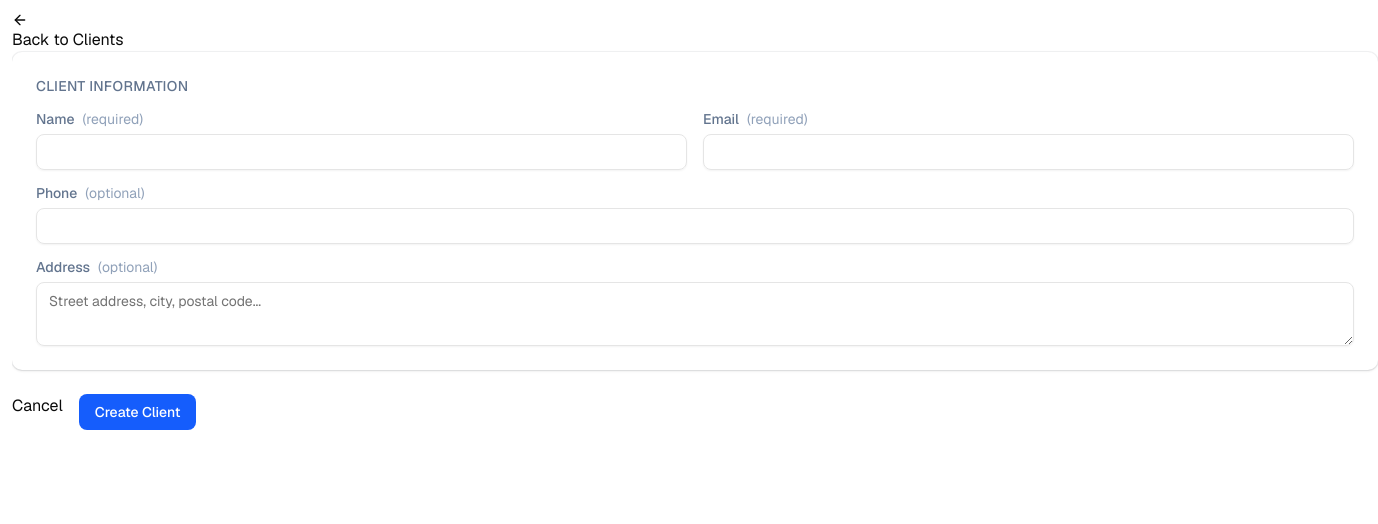
Test case: ClientForm › validation › shows error when email is empty
Type "Test Client" into the field labelled "Name (required)" at [362, 152], box [36,134,687,170]
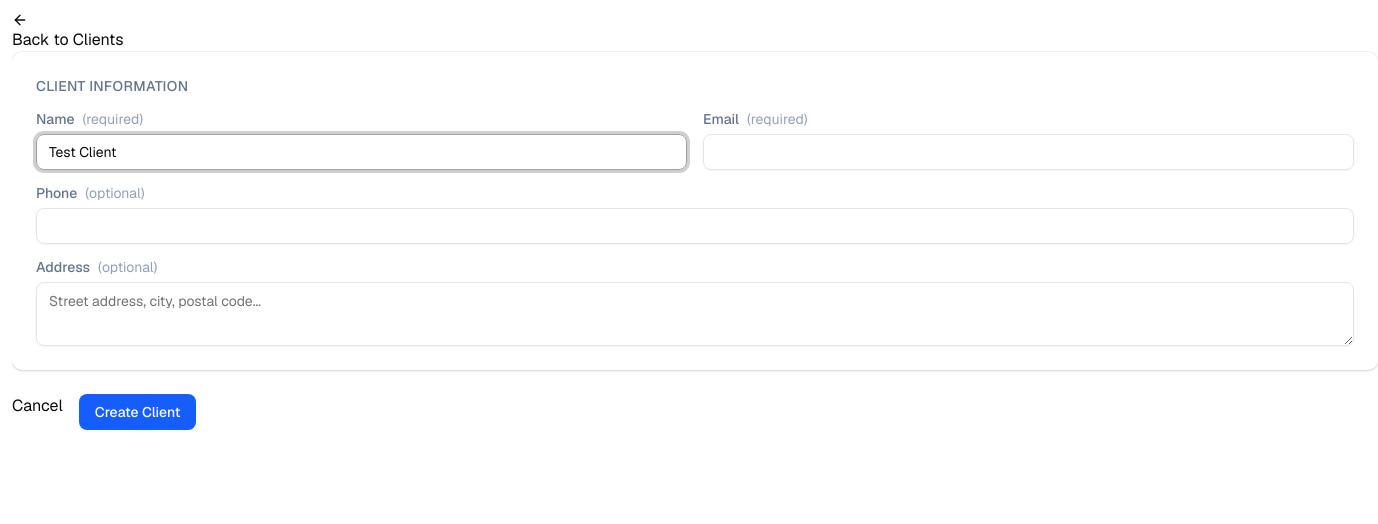
Click the button "Create Client" at [138, 412], box [79,394,196,430]
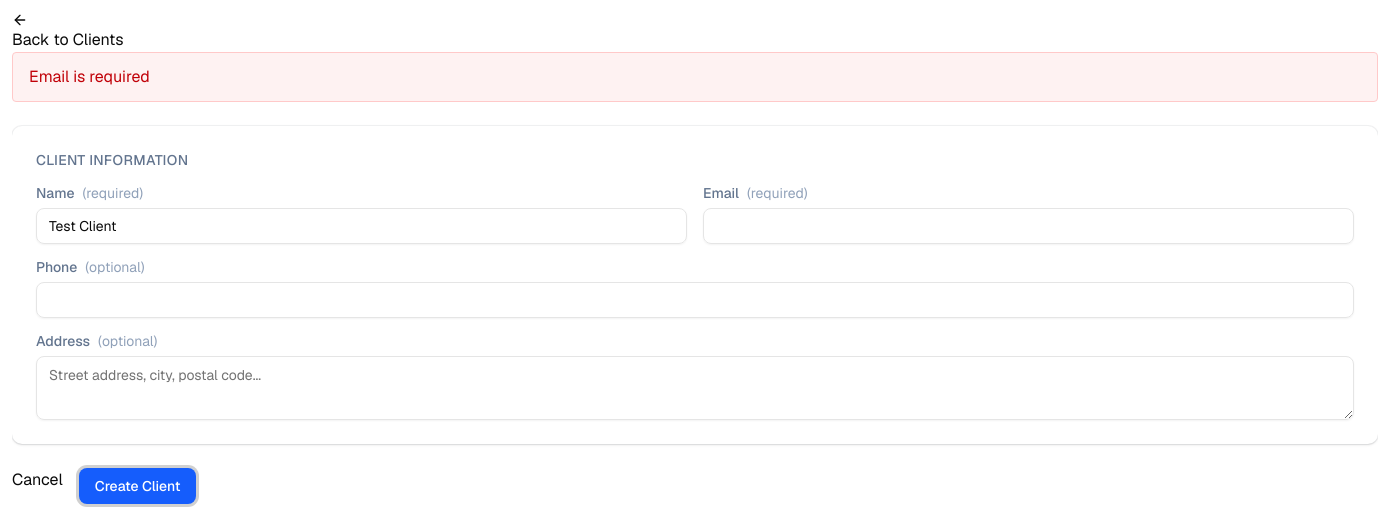
Check: the text "Email is required" is shown, box [12,52,1377,102]
